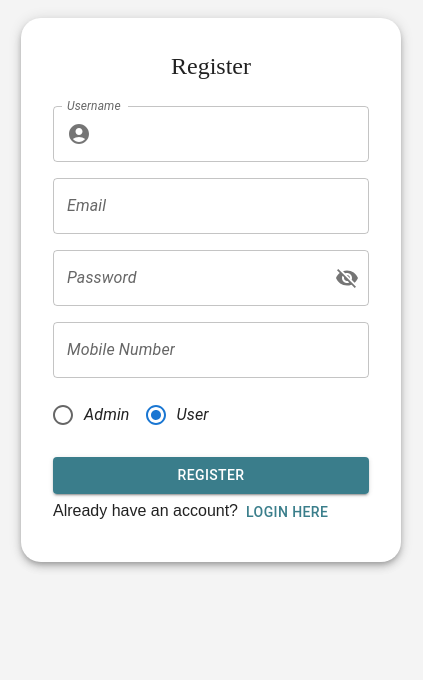
Test case: RegisterForm Component › should validate username field
Click the button "Register" at (211, 476), box 53,457 -> 369,494
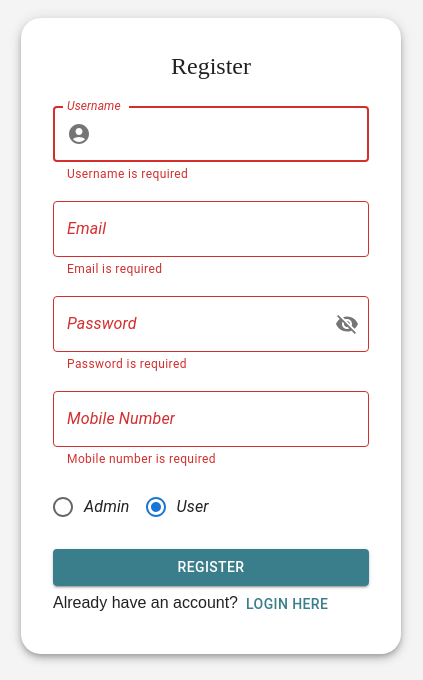
Result: the text "Username is required" is shown at 67,167 -> 188,181
Type "ab" into the field labelled "Username" at (234, 134), box 99,106 -> 369,162
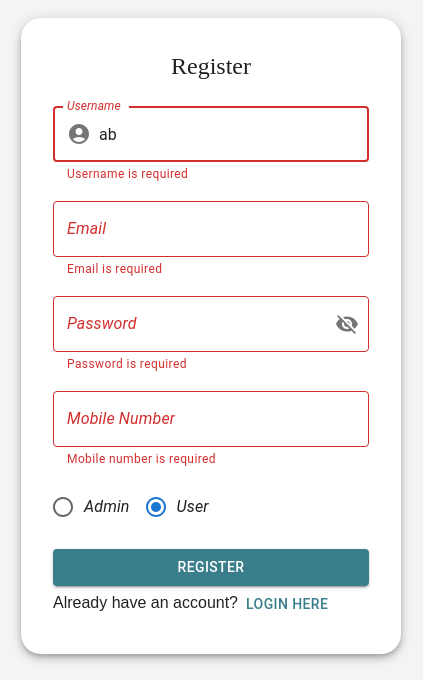
Click the button "Register" at (211, 567), box 53,549 -> 369,586
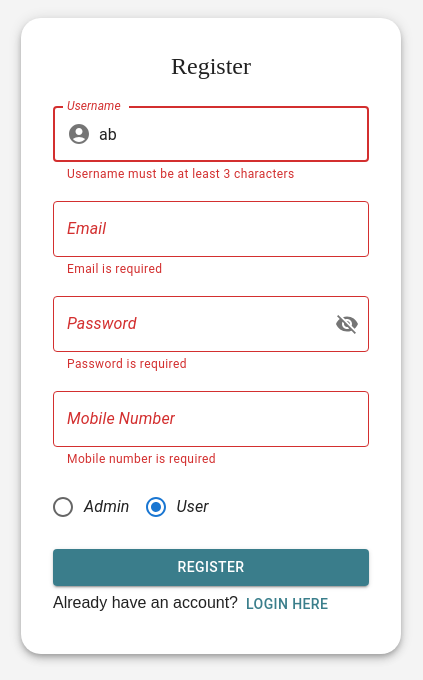
Result: the text "Username must be at least 3 characters" is shown at 67,167 -> 295,181
